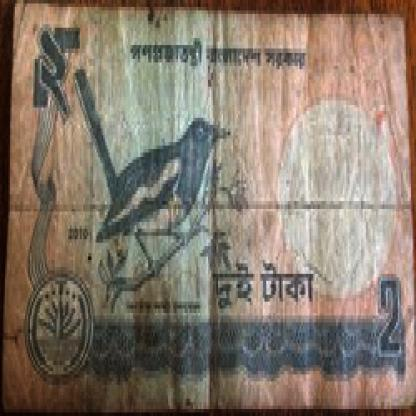two taka: (368, 267, 411, 388), (35, 31, 78, 128)
